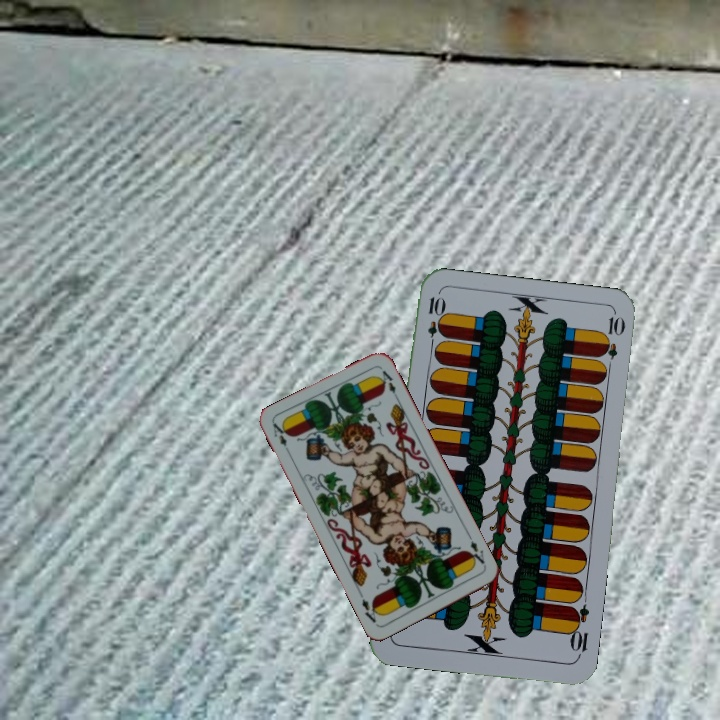E10: (565, 602, 592, 661), (424, 293, 444, 352)
EA: (268, 420, 294, 457), (463, 531, 487, 568)
